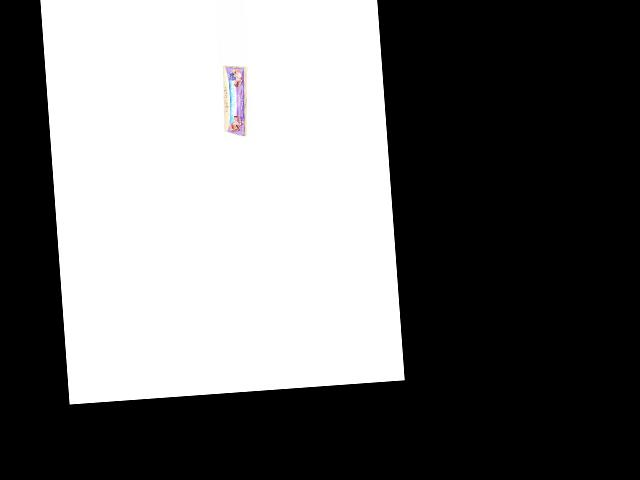chocolate: (222, 64, 252, 141)
